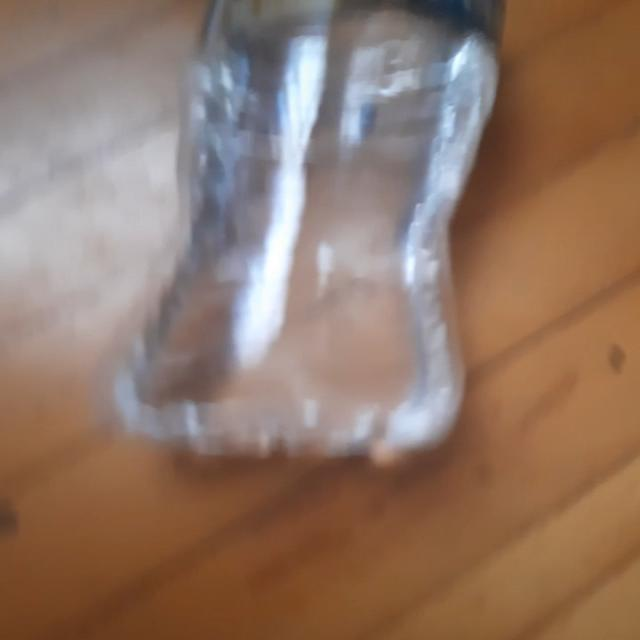Plastic: (114, 0, 506, 470)
